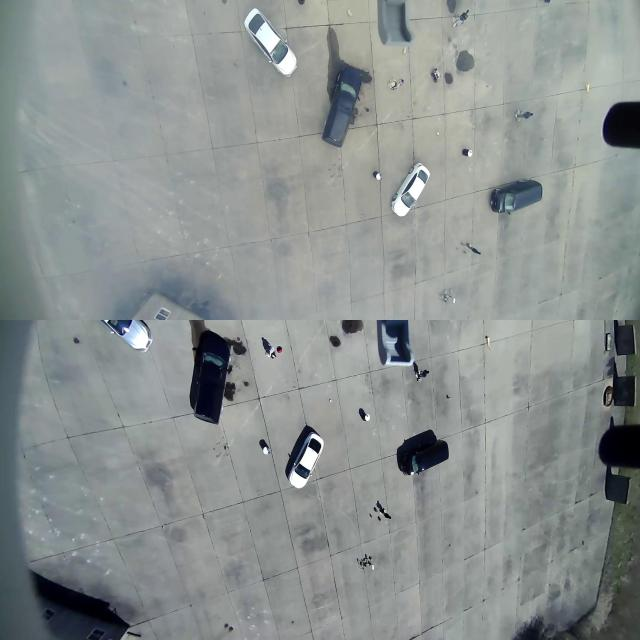car: (236, 3, 304, 79), (186, 328, 232, 435), (324, 58, 359, 160), (98, 303, 155, 357), (286, 425, 328, 494), (490, 173, 547, 221), (393, 156, 431, 223), (398, 439, 455, 479)
